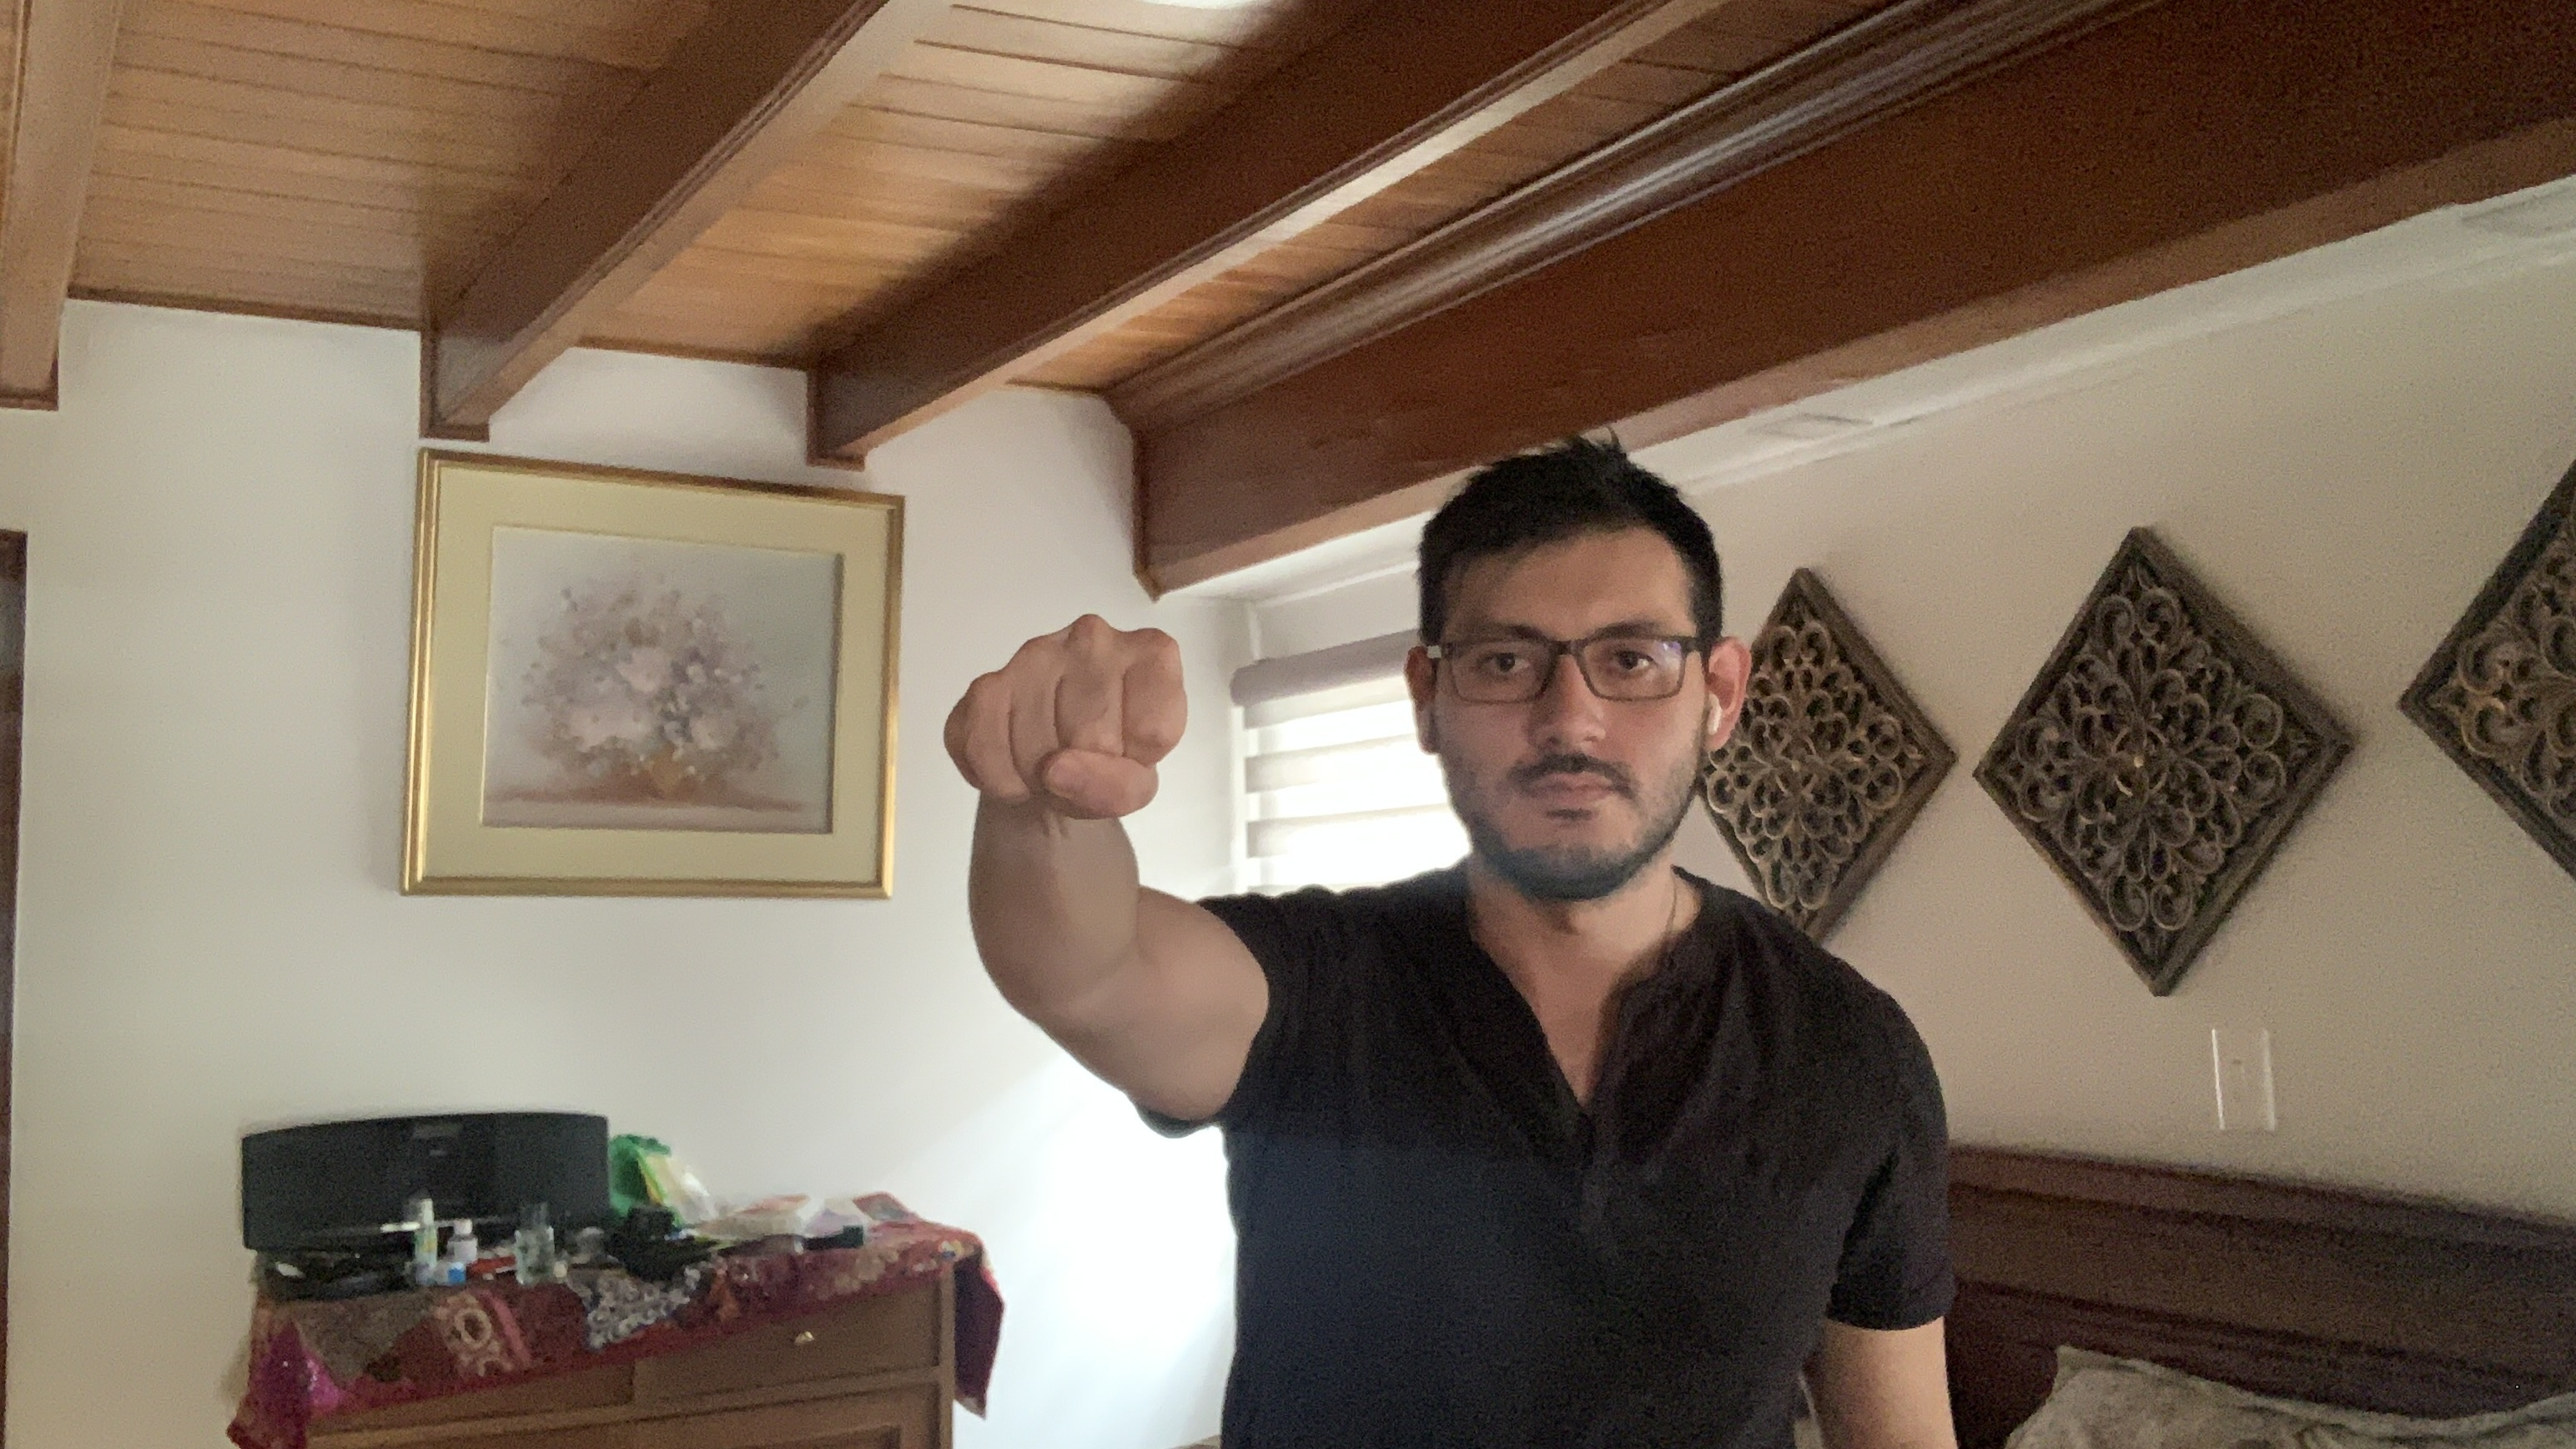Yes: (932, 603, 1207, 828)
